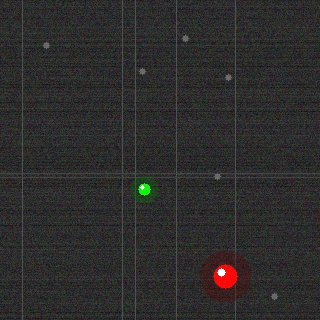green_normal: (136, 181, 152, 197)
red_fault: (211, 262, 239, 290)
